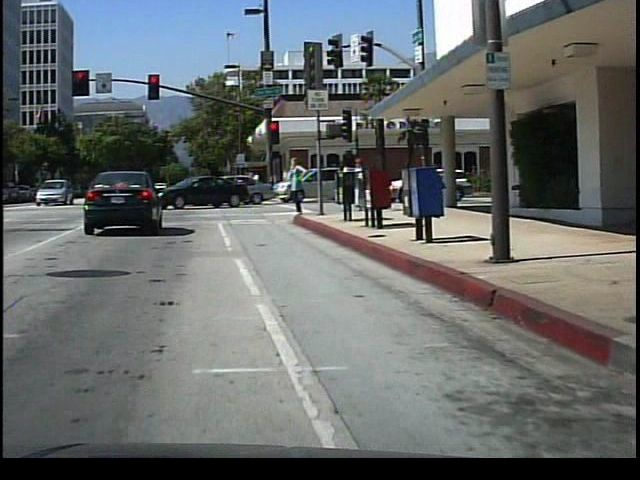person: (287, 152, 314, 219), (336, 154, 356, 213), (352, 153, 370, 214)
